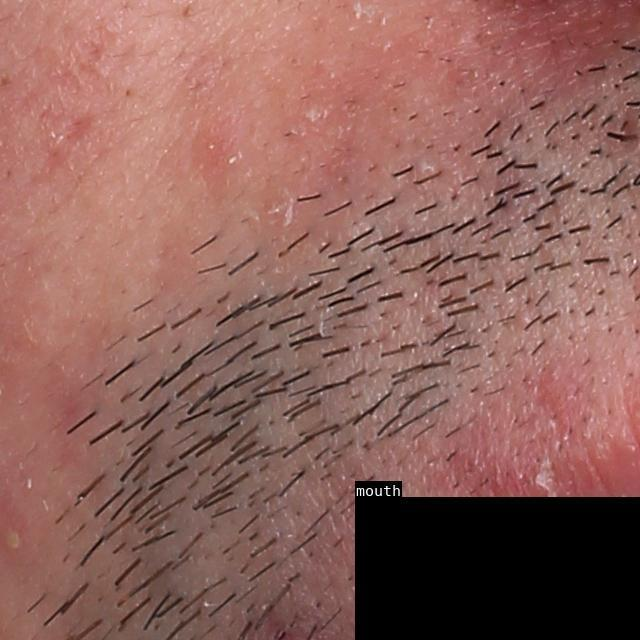atrophic_scar: (55, 111, 100, 164)
pustule: (0, 522, 31, 557)
